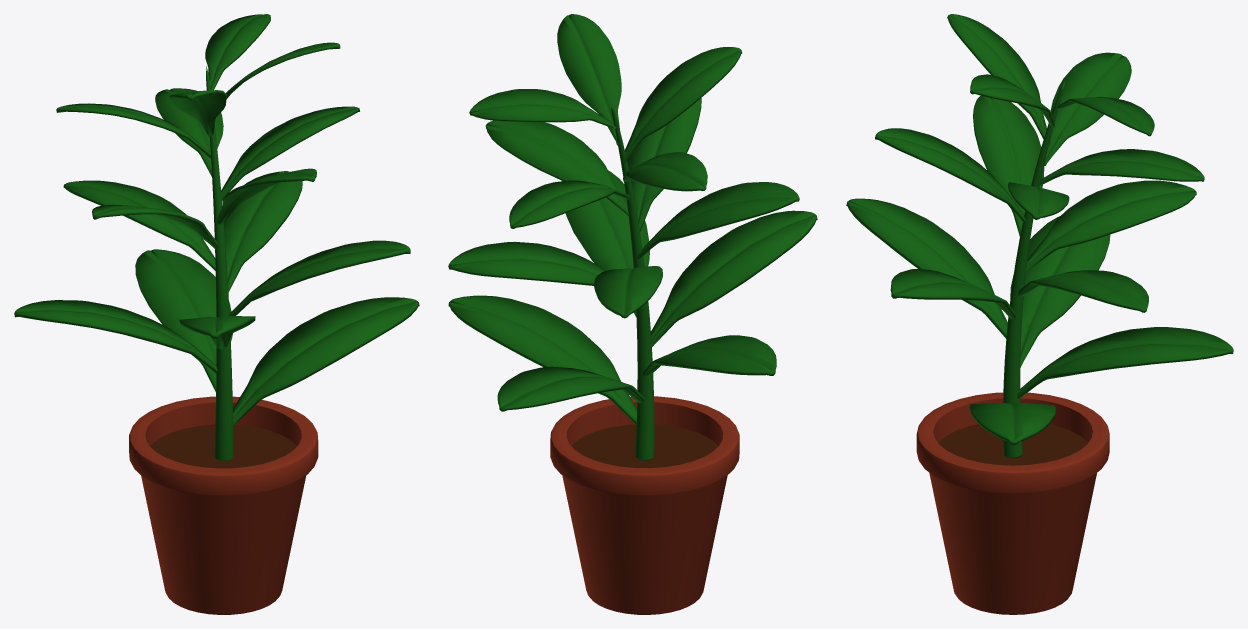
Rendered from Plant.fbx.
The picture shows the model from 3 angles, left to right: view 1: azimuth 30°, elevation 25°; view 2: azimuth 150°, elevation 25°; view 3: azimuth 270°, elevation 25°; orthographic projection.
Parts seen in each view (by area): view 1: plants, pot, stick; view 2: plants, pot, stick; view 3: plants, pot, stick.
Boxes of the visible parts, left/top/right/bottom form: plants: left=14, top=14, right=419, bottom=425; pot: left=129, top=396, right=318, bottom=614; stick: left=206, top=66, right=233, bottom=460; plants: left=448, top=14, right=817, bottom=424; pot: left=550, top=396, right=739, bottom=614; stick: left=611, top=103, right=654, bottom=460; plants: left=846, top=14, right=1233, bottom=445; pot: left=916, top=392, right=1109, bottom=614; stick: left=1003, top=81, right=1064, bottom=457.
Bounding box in the file's own units: 889 × 983 × 1392.
